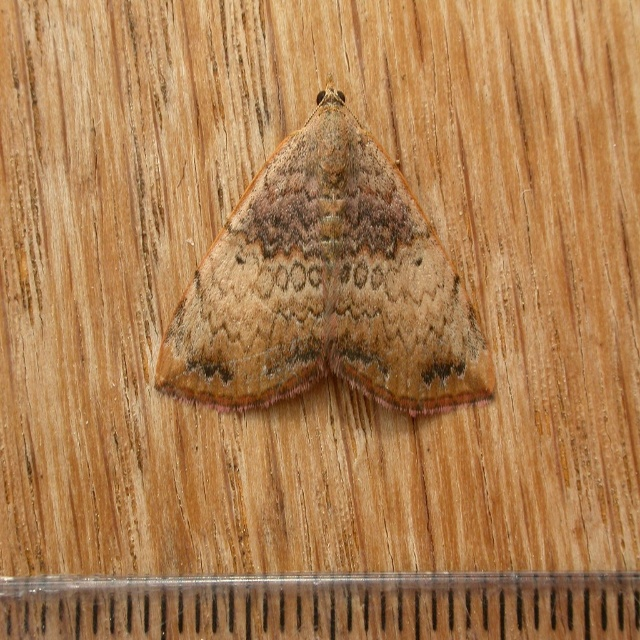Moths and butterflies: (154, 79, 499, 417)
